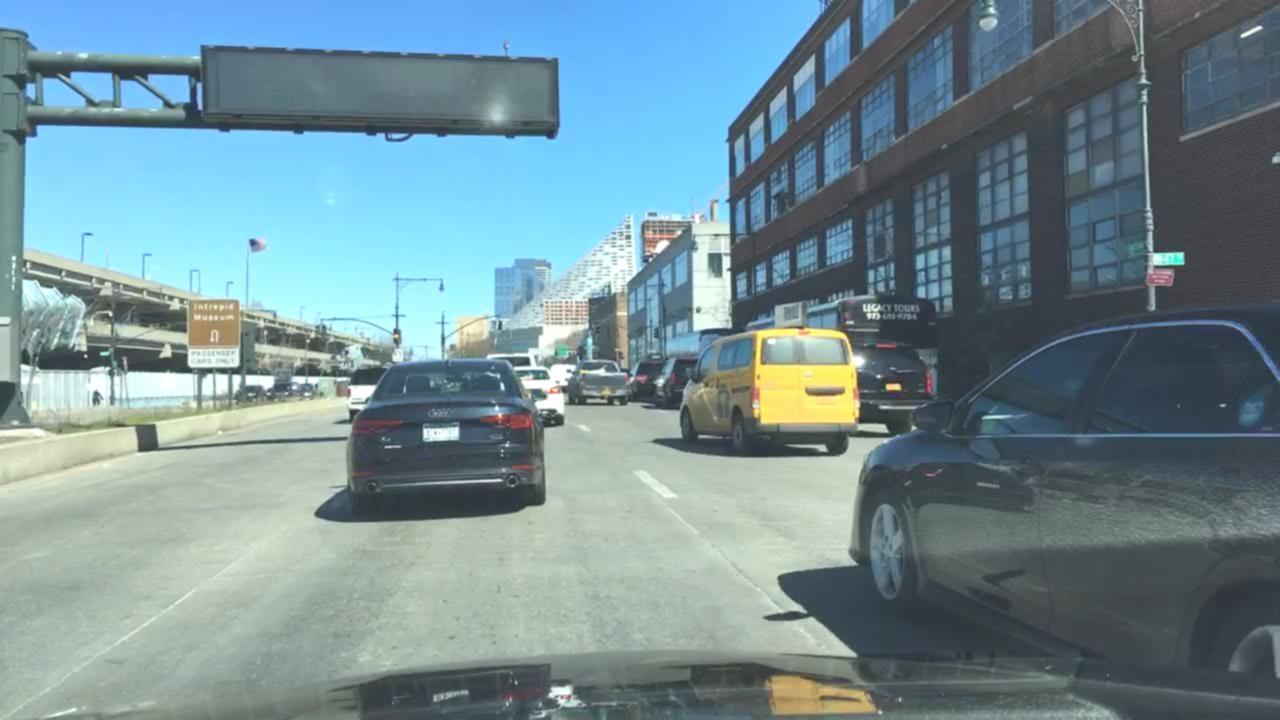Audi: (423, 400, 460, 423)
